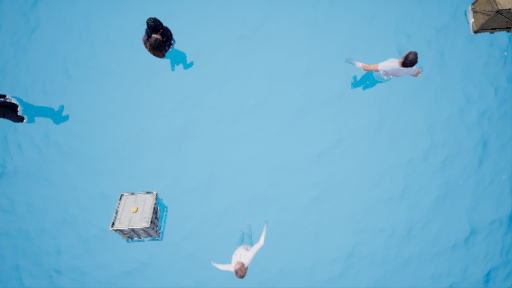person: (344, 48, 431, 105), (210, 216, 273, 279), (144, 15, 194, 71)
